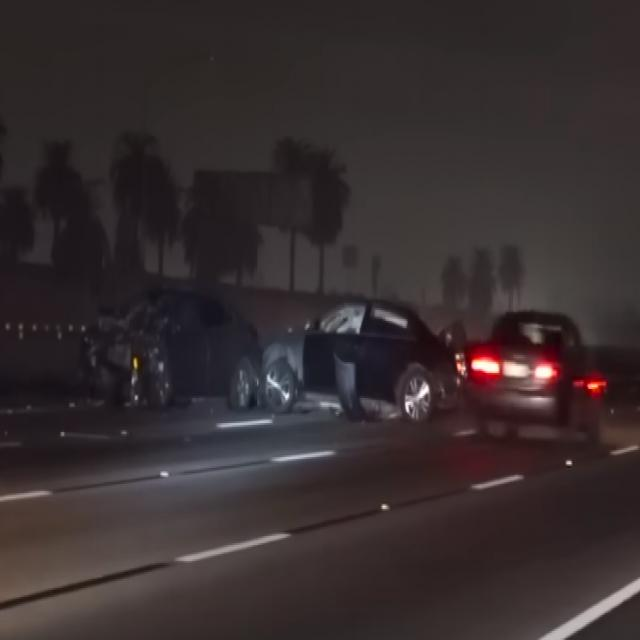accident: (71, 222, 461, 452)
